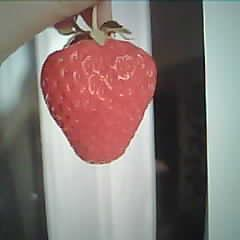straw-ripe: (40, 39, 158, 165)
